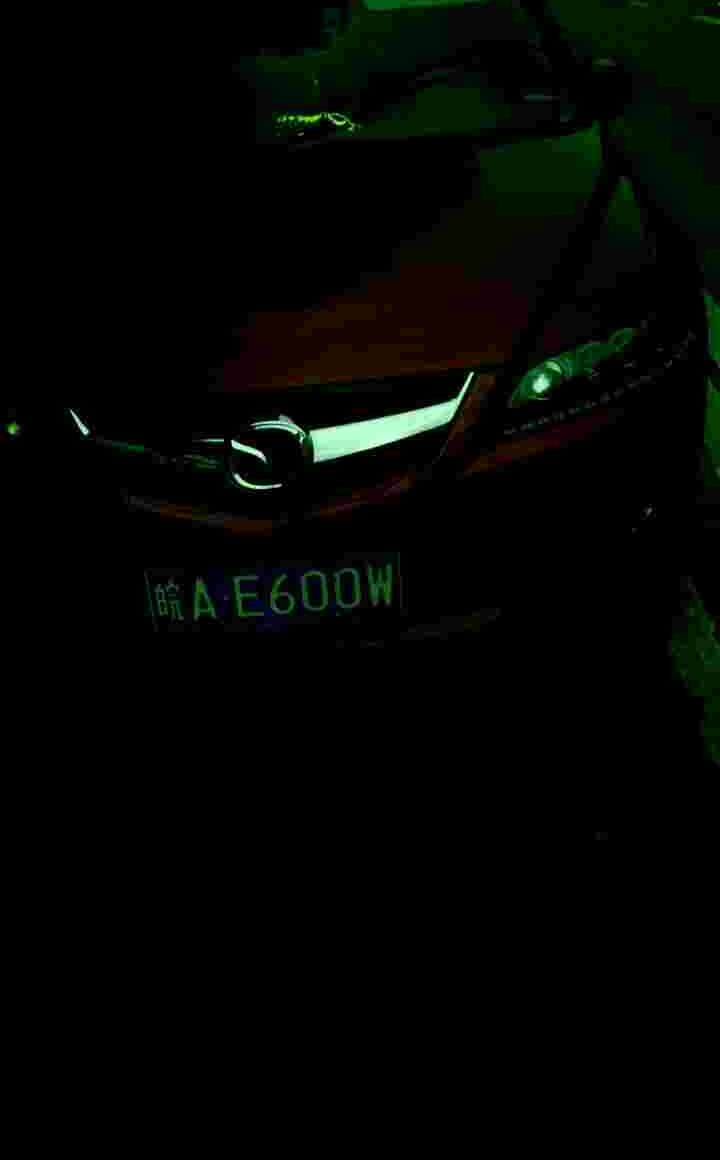license_plate: (156, 560, 397, 630)
